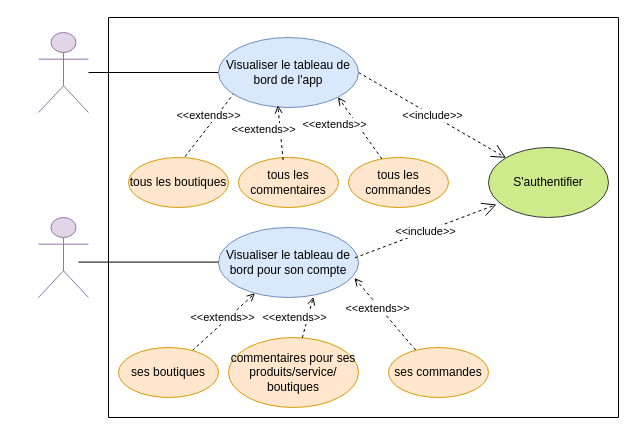
Image size: 636x435. Some labels were removed from this diagram. Here are the shapes that lost their labels. From the top down, the centre of each, then its label:
the point at 63,72: Admin
the point at 63,257: Profil d'entreprise
